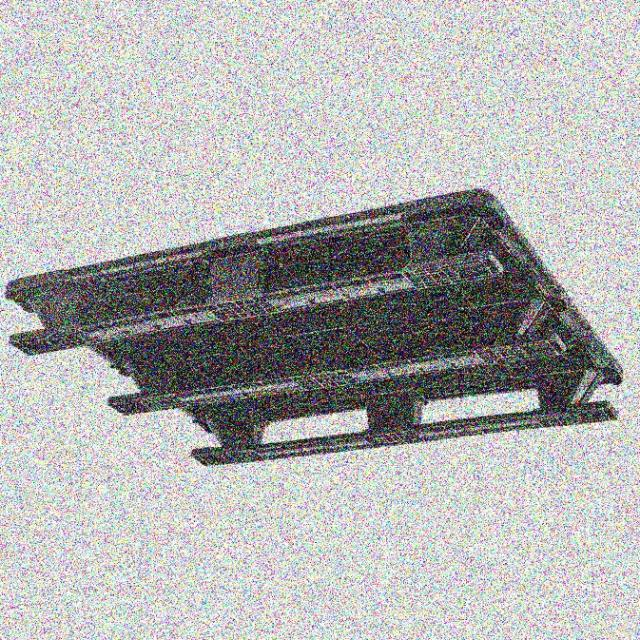non-igps: (0, 177, 629, 475)
